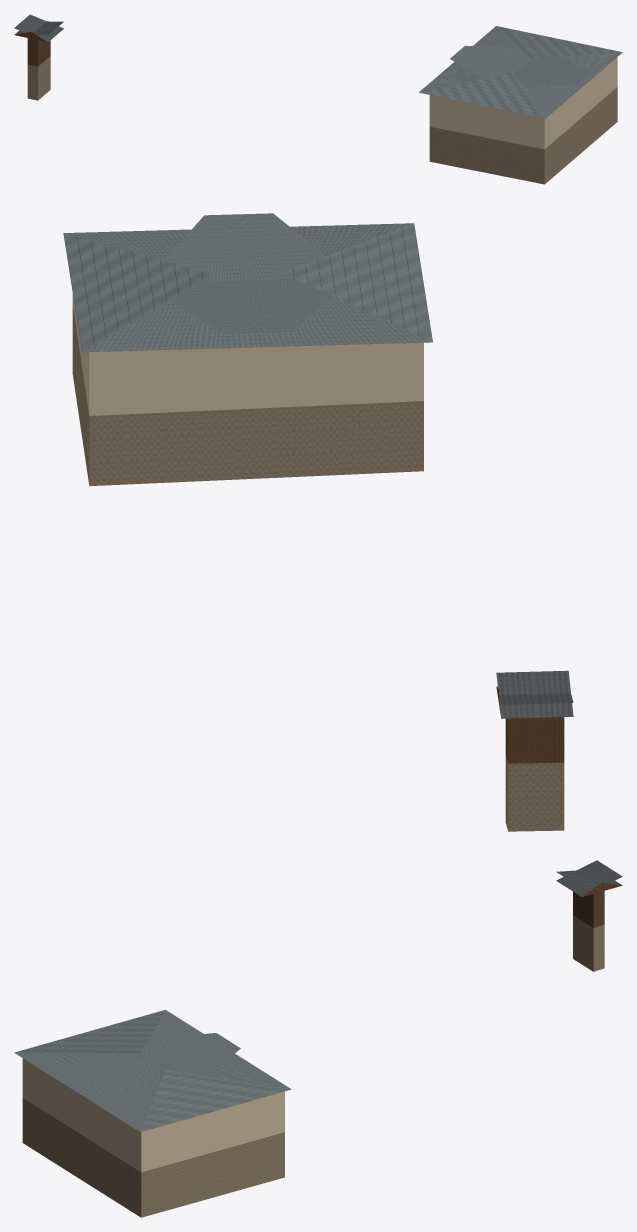
Rendered from bld_c44_46_184.gltf.
3 renders of one model, top to bottom at view 1: azimuth 30°, elevation 25°; view 2: azimuth 150°, elevation 25°; view 3: azimuth 270°, elevation 25°, orthographic. The views are drawn at different scales.
Visible parts, largest first — view 1: bld_c44_46_184; view 2: bld_c44_46_184; view 3: bld_c44_46_184.
Part boxes in pixels (x1,y1,x2,y2): bld_c44_46_184: (14, 14, 622, 184); bld_c44_46_184: (63, 213, 573, 831); bld_c44_46_184: (14, 860, 622, 1217).
Bounding box in the file's own units: 65.2 × 11 × 61.66.
Materials: 6 (6 with a texture image).
